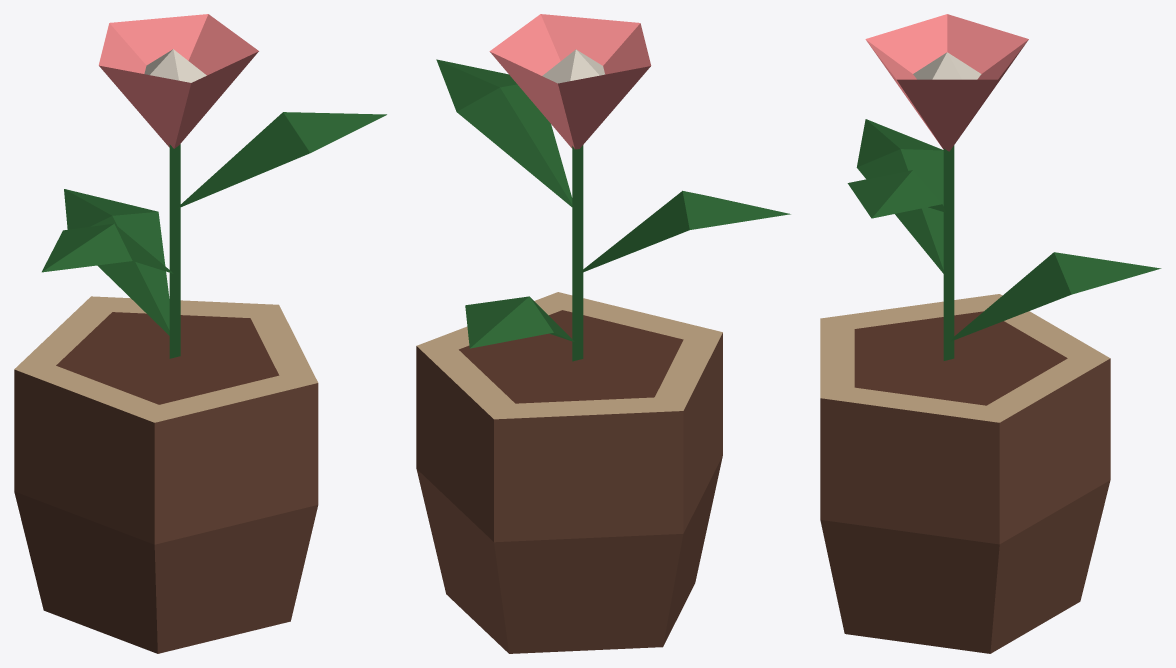
The model's file is TB_Prop_Flowerpot_B.FBX.
3 views of the same model, side by side, from view 1: azimuth 30°, elevation 25°; view 2: azimuth 150°, elevation 25°; view 3: azimuth 270°, elevation 25° (orthographic).
Visible parts, largest first — view 1: TB_Prop_Flowerpot_B; view 2: TB_Prop_Flowerpot_B; view 3: TB_Prop_Flowerpot_B.
Boxes of the visible parts, x1,y1,x2,y2 form: TB_Prop_Flowerpot_B: (14,14,386,653); TB_Prop_Flowerpot_B: (416,14,790,653); TB_Prop_Flowerpot_B: (820,14,1161,653).
Bounding box in the file's own units: 0.578 × 0.8735 × 0.49.
